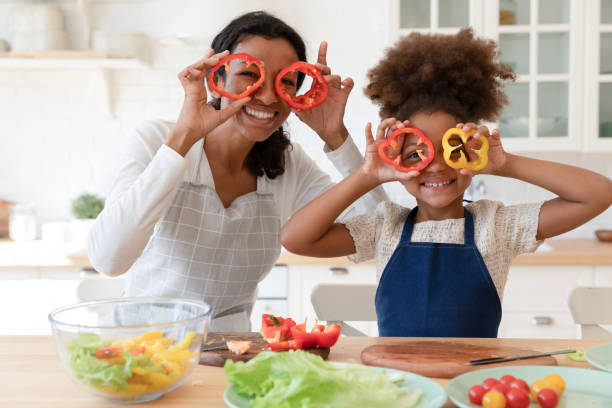without mask: (220, 31, 304, 148), (390, 99, 474, 216)
